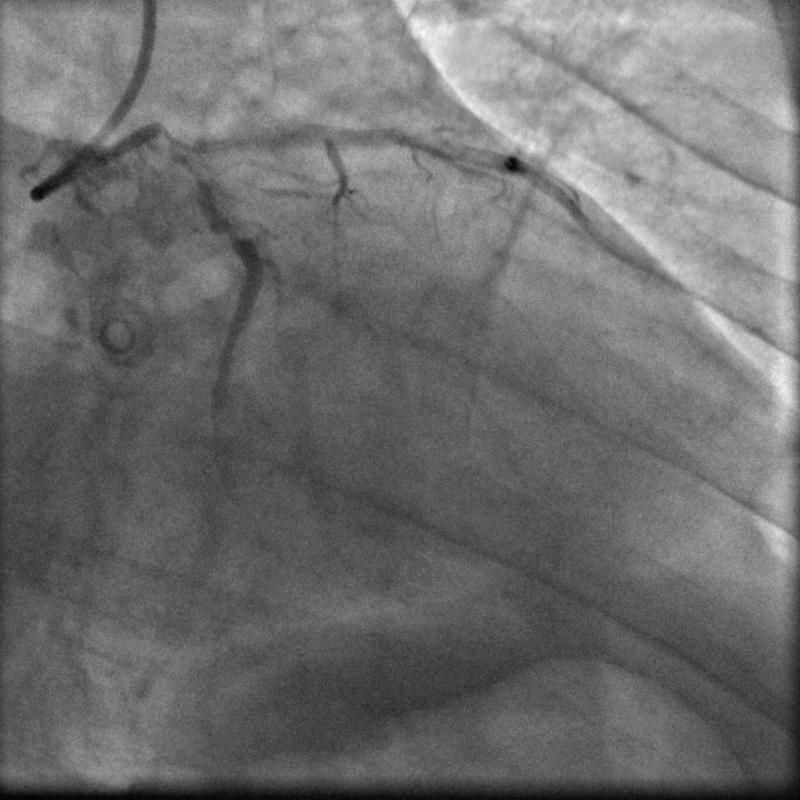Stenosis: (226, 227, 245, 244)
